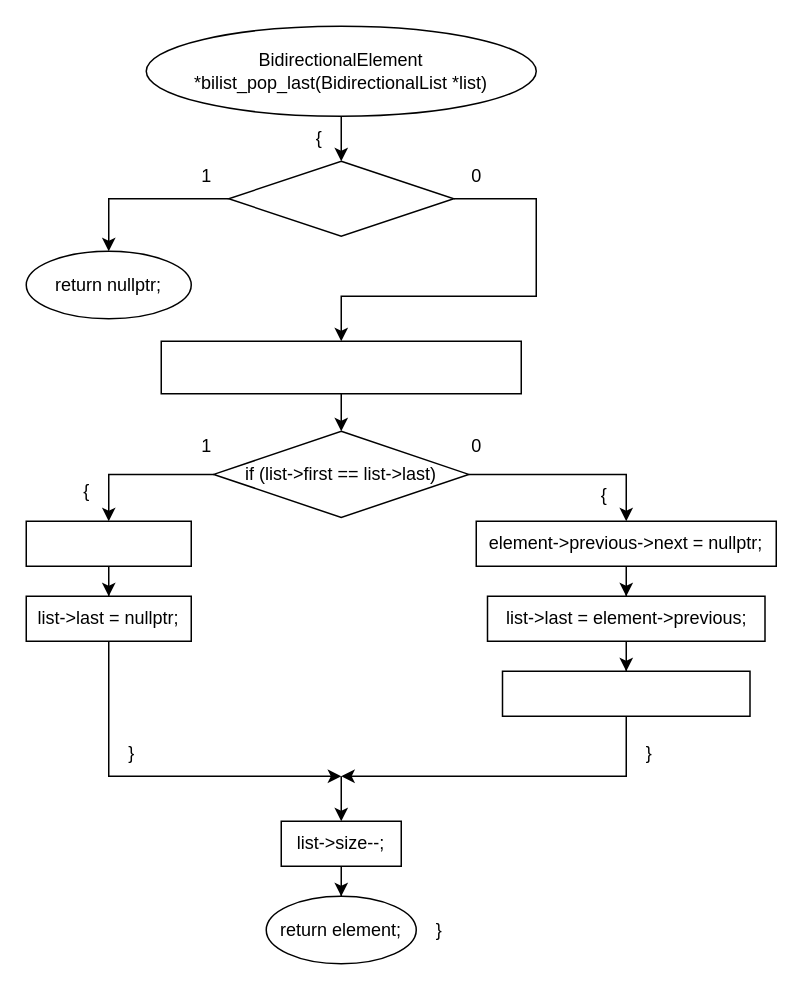
Image size: 803x990. Some labels were removed from this diagram. The shapes that lost their labels are listed below. From the top down, each one's centre as x and y in pixels, then its label:
At (x=340, y=198): "if (list->last == nullptr)".
At (x=340, y=367): "BidirectionalElement *element = list->last;".
At (x=108, y=543): "list->first = nullptr;".
At (x=625, y=693): "element->previous = nullptr;".
